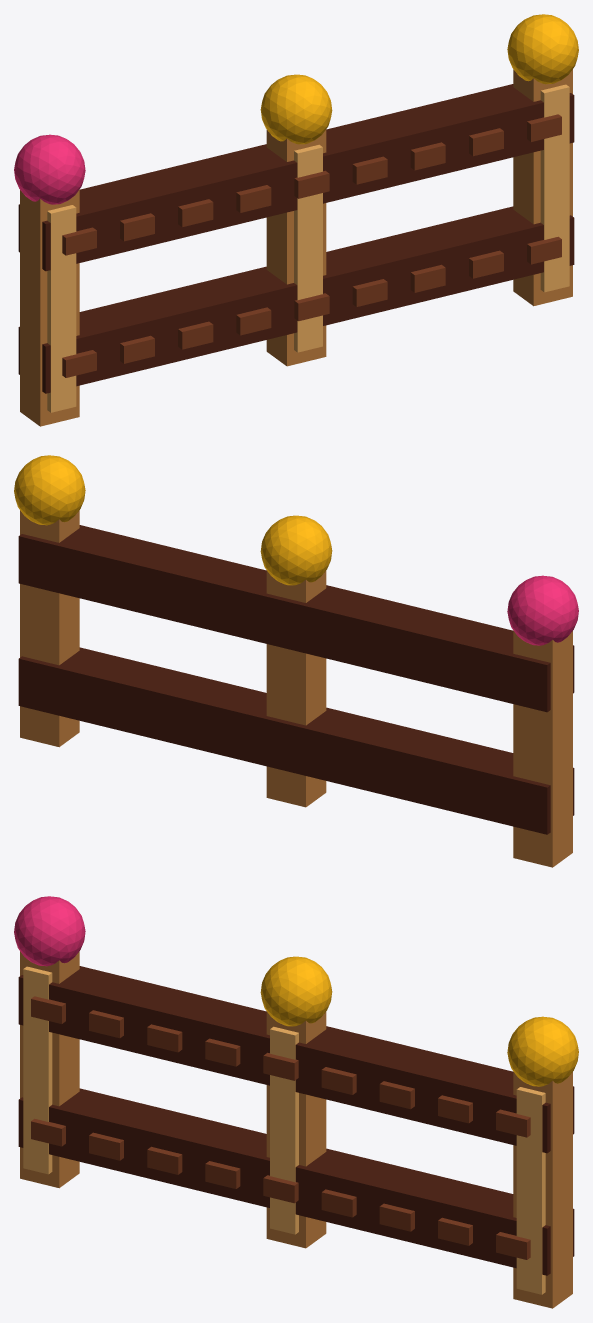
File: 11_Cerca_Wafer_Chocolate.obj
3 views of the same model, one above another, from view 1: azimuth 30°, elevation 25°; view 2: azimuth 150°, elevation 25°; view 3: azimuth 330°, elevation 25° (orthographic).
Parts seen in each view (by area): view 1: parte_017_chocolate, parte_007_chocolate, parte_001_wafer, parte_002_wafer_light, parte_006_wafer_light, parte_004_wafer_light, parte_003_wafer, parte_005_wafer, parte_028_yellow, parte_027_pink, parte_029_yellow, parte_010_chocolate_light (+17 smaller); view 2: parte_007_chocolate, parte_017_chocolate, parte_001_wafer, parte_003_wafer, parte_005_wafer, parte_028_yellow, parte_027_pink, parte_029_yellow; view 3: parte_017_chocolate, parte_007_chocolate, parte_005_wafer, parte_006_wafer_light, parte_002_wafer_light, parte_004_wafer_light, parte_003_wafer, parte_001_wafer, parte_028_yellow, parte_029_yellow, parte_027_pink, parte_010_chocolate_light (+17 smaller).
Boxes of the visible parts, x1=… form: parte_017_chocolate: x1=18, y1=84, x2=574, y2=271; parte_007_chocolate: x1=18, y1=206, x2=574, y2=393; parte_001_wafer: x1=20, y1=189, x2=79, y2=426; parte_002_wafer_light: x1=47, y1=205, x2=76, y2=412; parte_006_wafer_light: x1=540, y1=84, x2=569, y2=292; parte_004_wafer_light: x1=294, y1=144, x2=322, y2=352; parte_003_wafer: x1=266, y1=129, x2=326, y2=366; parte_005_wafer: x1=513, y1=69, x2=572, y2=306; parte_028_yellow: x1=260, y1=74, x2=332, y2=144; parte_027_pink: x1=14, y1=134, x2=85, y2=204; parte_029_yellow: x1=507, y1=14, x2=578, y2=84; parte_010_chocolate_light: x1=178, y1=321, x2=213, y2=349; parte_007_chocolate: x1=18, y1=647, x2=574, y2=834; parte_017_chocolate: x1=18, y1=525, x2=574, y2=712; parte_001_wafer: x1=513, y1=630, x2=572, y2=867; parte_003_wafer: x1=266, y1=570, x2=326, y2=807; parte_005_wafer: x1=20, y1=510, x2=79, y2=747; parte_028_yellow: x1=260, y1=515, x2=332, y2=585; parte_027_pink: x1=507, y1=575, x2=578, y2=645; parte_029_yellow: x1=14, y1=455, x2=85, y2=525; parte_017_chocolate: x1=18, y1=966, x2=574, y2=1153; parte_007_chocolate: x1=18, y1=1088, x2=574, y2=1275; parte_005_wafer: x1=513, y1=1071, x2=572, y2=1308; parte_006_wafer_light: x1=516, y1=1087, x2=545, y2=1294; parte_002_wafer_light: x1=23, y1=966, x2=52, y2=1174; parte_004_wafer_light: x1=270, y1=1026, x2=298, y2=1234; parte_003_wafer: x1=266, y1=1011, x2=326, y2=1248; parte_001_wafer: x1=20, y1=951, x2=79, y2=1188; parte_028_yellow: x1=260, y1=956, x2=332, y2=1026; parte_029_yellow: x1=507, y1=1016, x2=578, y2=1086; parte_027_pink: x1=14, y1=896, x2=85, y2=966; parte_010_chocolate_light: x1=147, y1=1146, x2=182, y2=1174.
Size of the model in its own units: 3.94 by 1.88 by 0.44.
